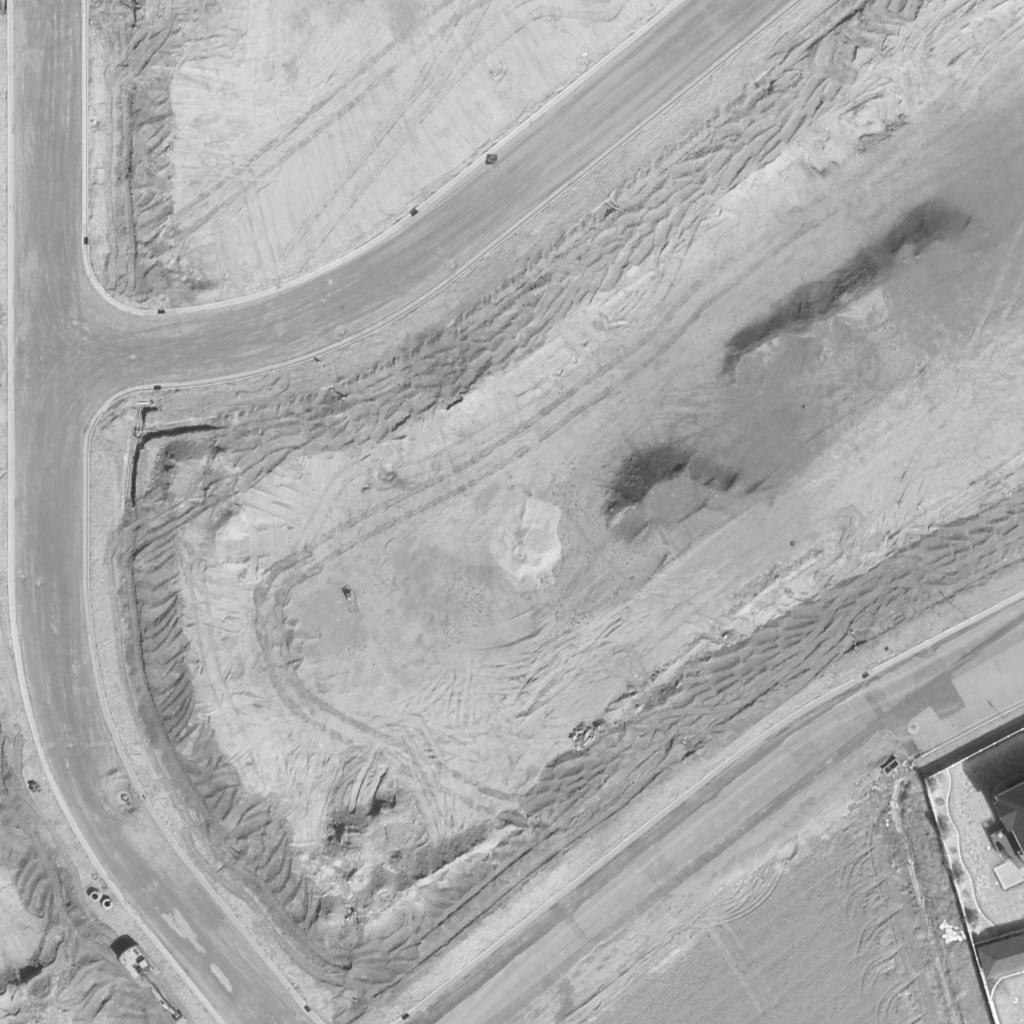vehicle: (115, 943, 197, 1024)
